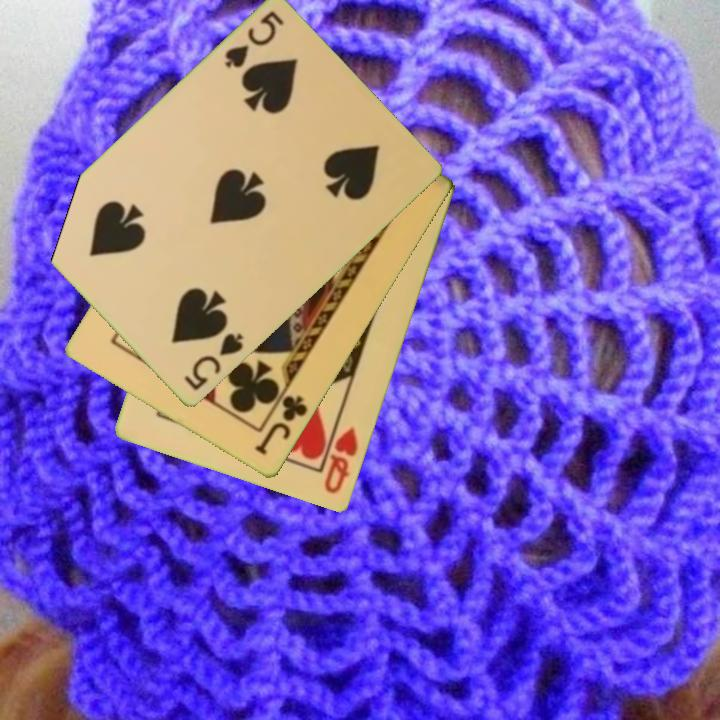5s: (180, 329, 247, 395), (220, 7, 287, 72)
Jc: (251, 392, 311, 459)
Qh: (320, 423, 361, 497)
